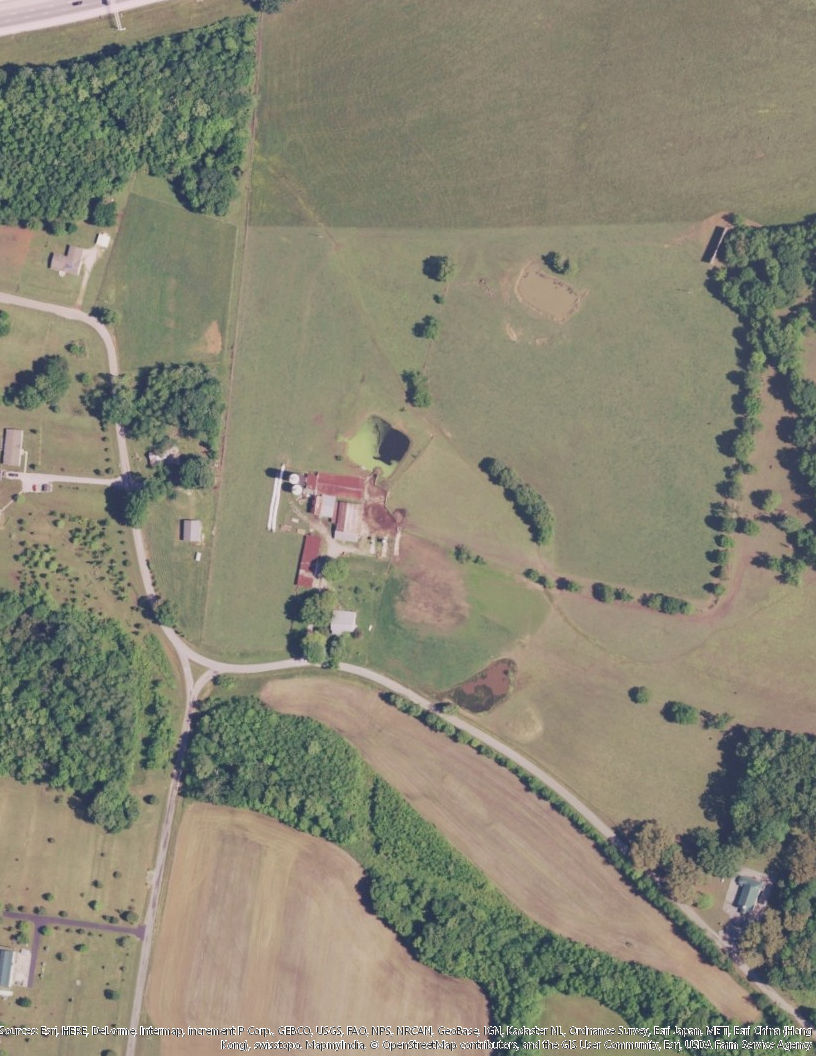cafo: (302, 470, 368, 501), (292, 533, 324, 594)
